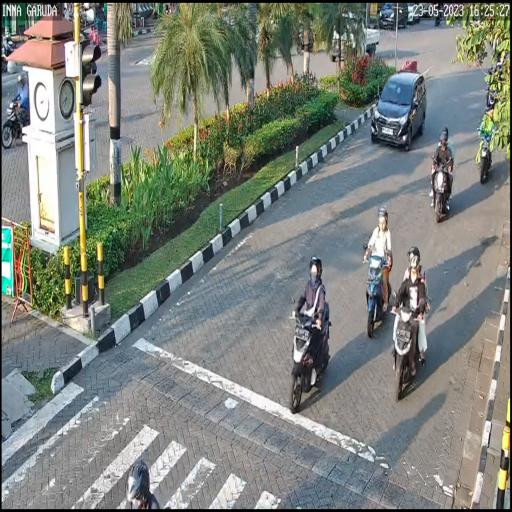mobil: (372, 61, 430, 158)
motor: (286, 286, 334, 408), (388, 284, 430, 398), (363, 234, 393, 337), (427, 152, 455, 228)
